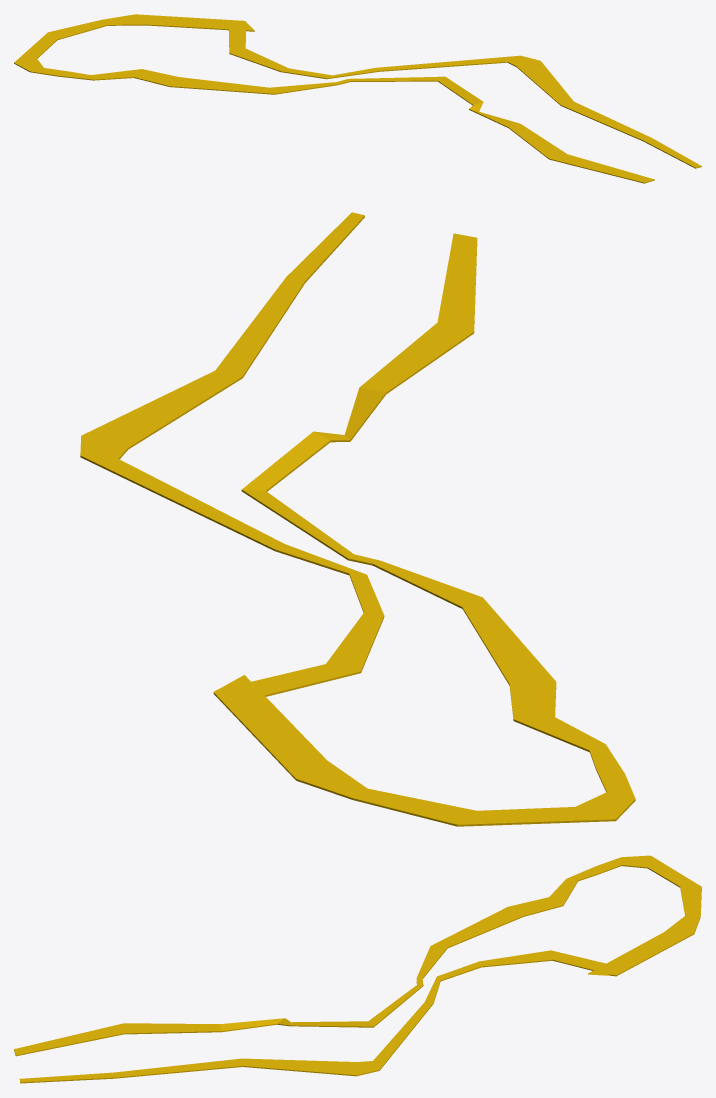
Rendered from clearingLine.fbx.
3 renders of one model, top to bottom at view 1: azimuth 30°, elevation 25°; view 2: azimuth 150°, elevation 25°; view 3: azimuth 270°, elevation 25°, orthographic. The views are drawn at different scales.
Visible parts, largest first — view 1: ClearingLine; view 2: ClearingLine; view 3: ClearingLine.
Boxes of the visible parts, x1=… form: ClearingLine: x1=14, y1=14, x2=701, y2=183; ClearingLine: x1=80, y1=212, x2=635, y2=826; ClearingLine: x1=14, y1=855, x2=701, y2=1083.
Size of the model in its own units: 846841 by 8496 by 1084928.
